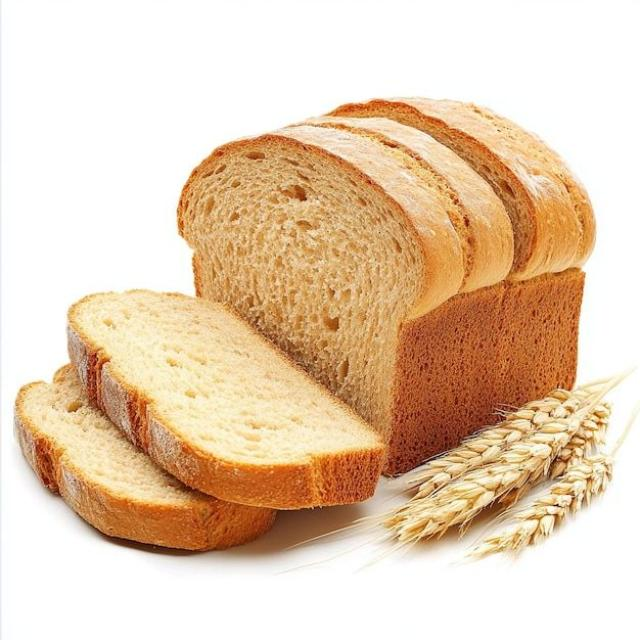sliced_bread: (178, 108, 592, 473), (68, 291, 384, 509), (15, 365, 276, 550), (331, 98, 595, 280)
